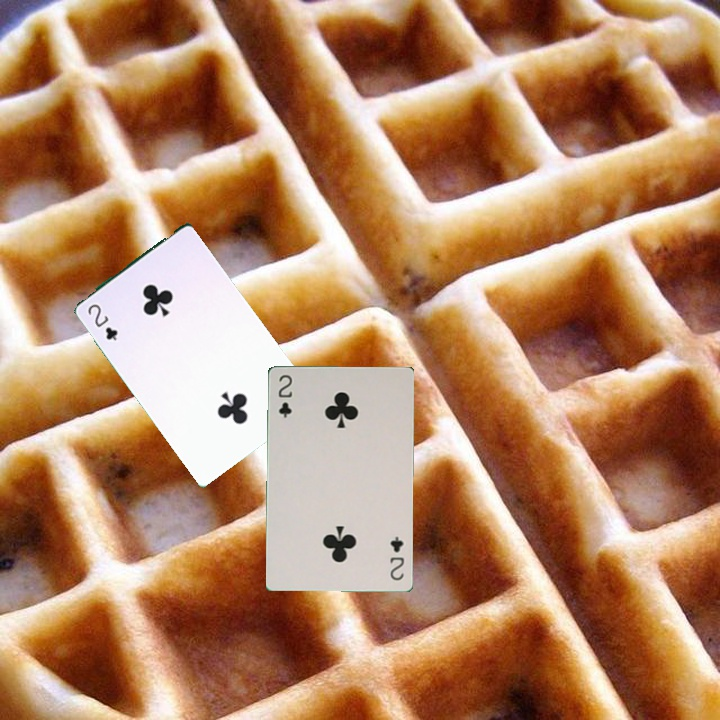2c: (84, 300, 120, 343), (386, 532, 407, 583), (274, 371, 294, 420)
